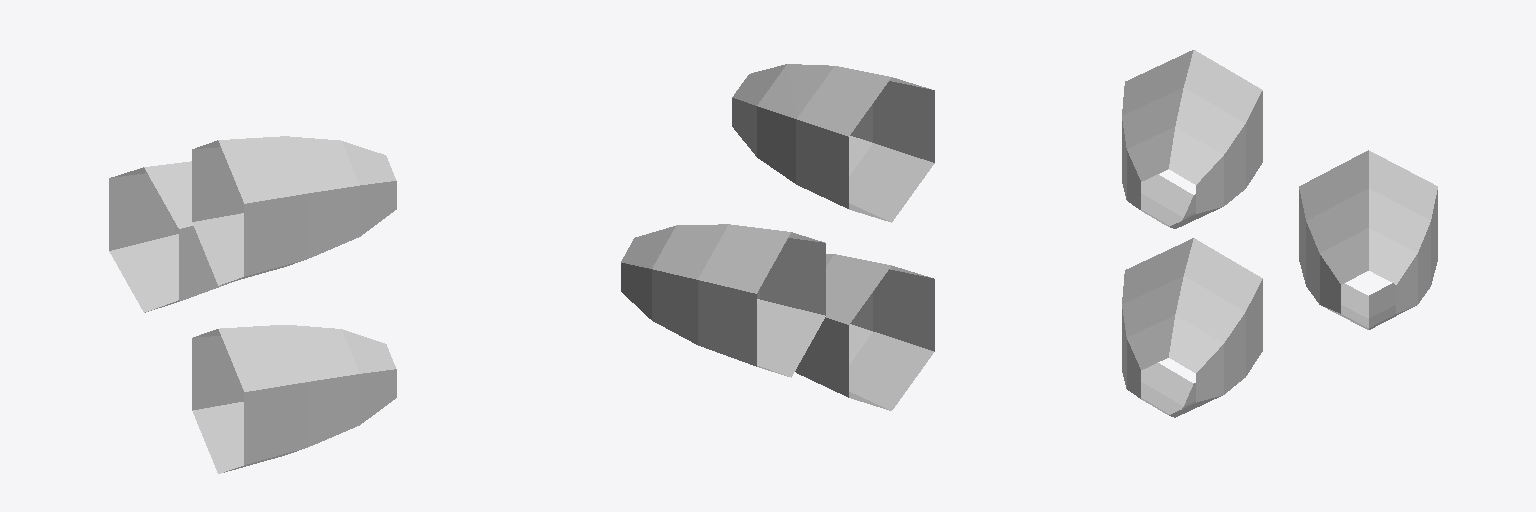
File: engout.obj
The picture shows the model from 3 angles: view 1: azimuth 30°, elevation 25°; view 2: azimuth 150°, elevation 25°; view 3: azimuth 270°, elevation 25°; orthographic projection.
Parts seen in each view (by area): view 1: engout; view 2: engout; view 3: engout.
Boxes of the visible parts, box(x1,y1,x2,y2) form: engout: box(109, 136, 396, 473); engout: box(621, 64, 934, 410); engout: box(1122, 50, 1437, 417).
Size of the model in its own units: 0.1115 by 0.1996 by 0.1712.